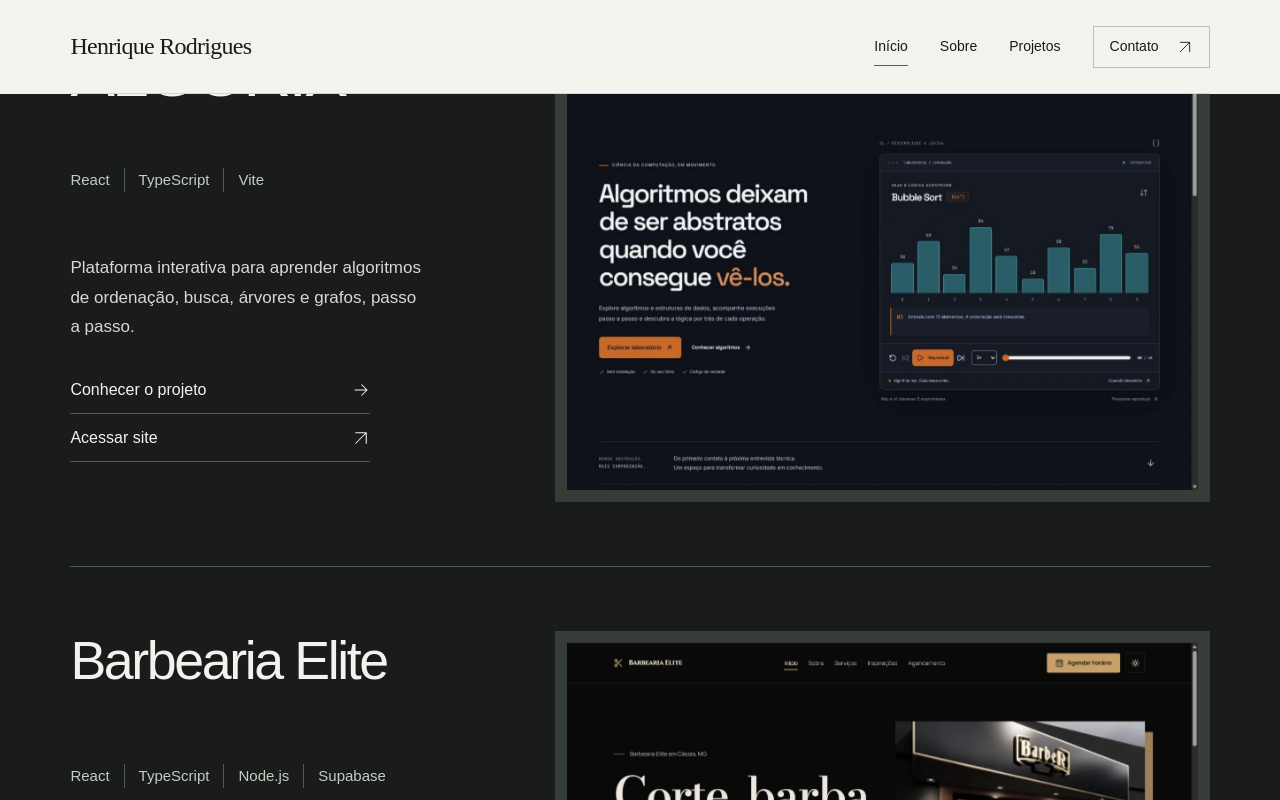
Test: Navegação e conteúdo › apresenta os dois projetos públicos e recomenda outro estudo de caso
(page scrolled)
Step 1. Click the link "Conhecer o projeto" → click(138, 389), box 70,366 -> 370,414
(page scrolled)
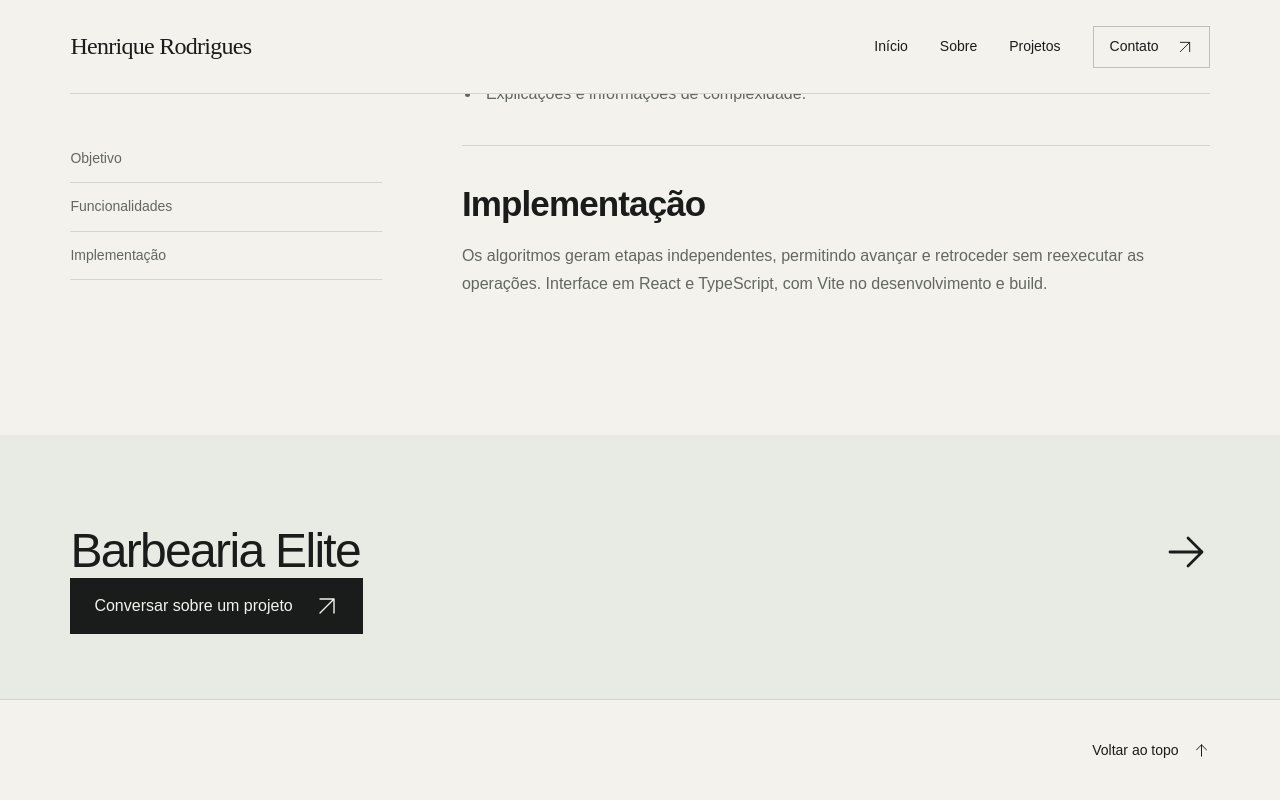
Expected: the link to "/projetos/algorix" is gone
